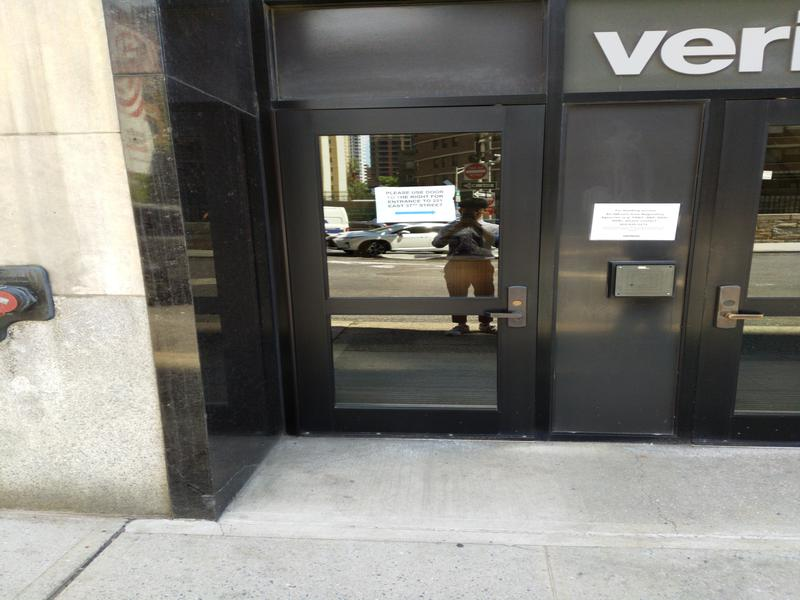door: (271, 93, 553, 442), (719, 97, 800, 448)
